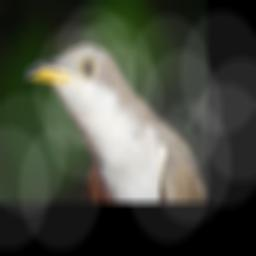Cuckoo: (24, 42, 207, 201)
